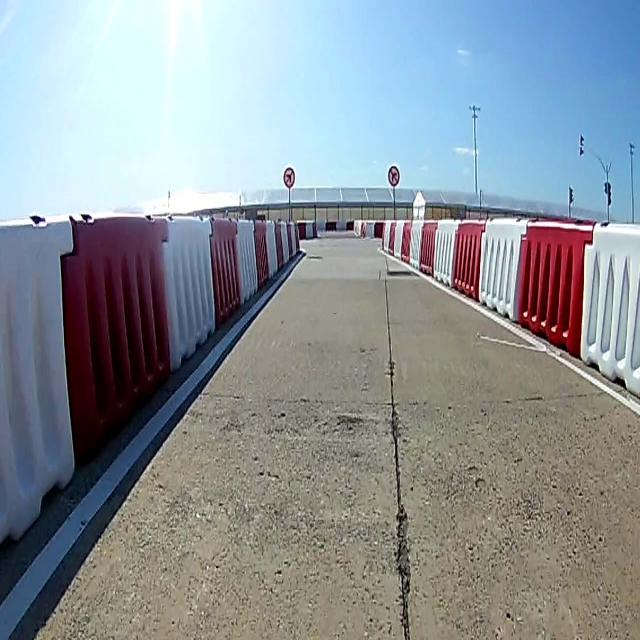sagadonulmez: (387, 165, 399, 186)
soladonulmez: (283, 165, 295, 187)
